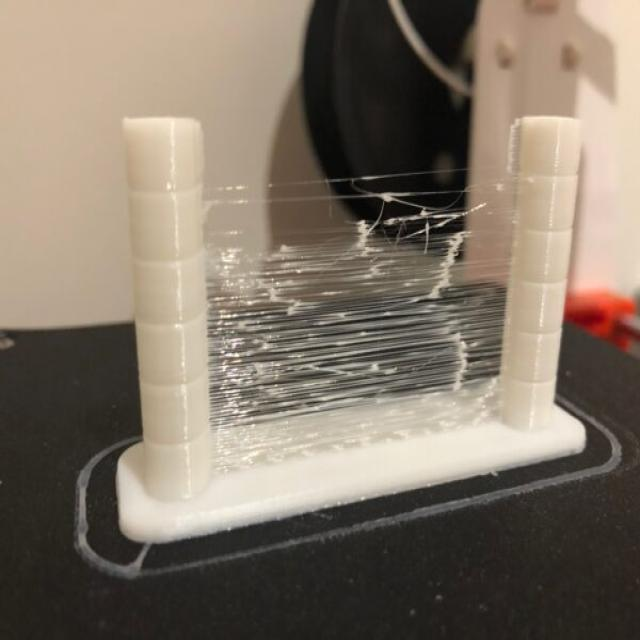Stringing: (210, 161, 523, 471)
